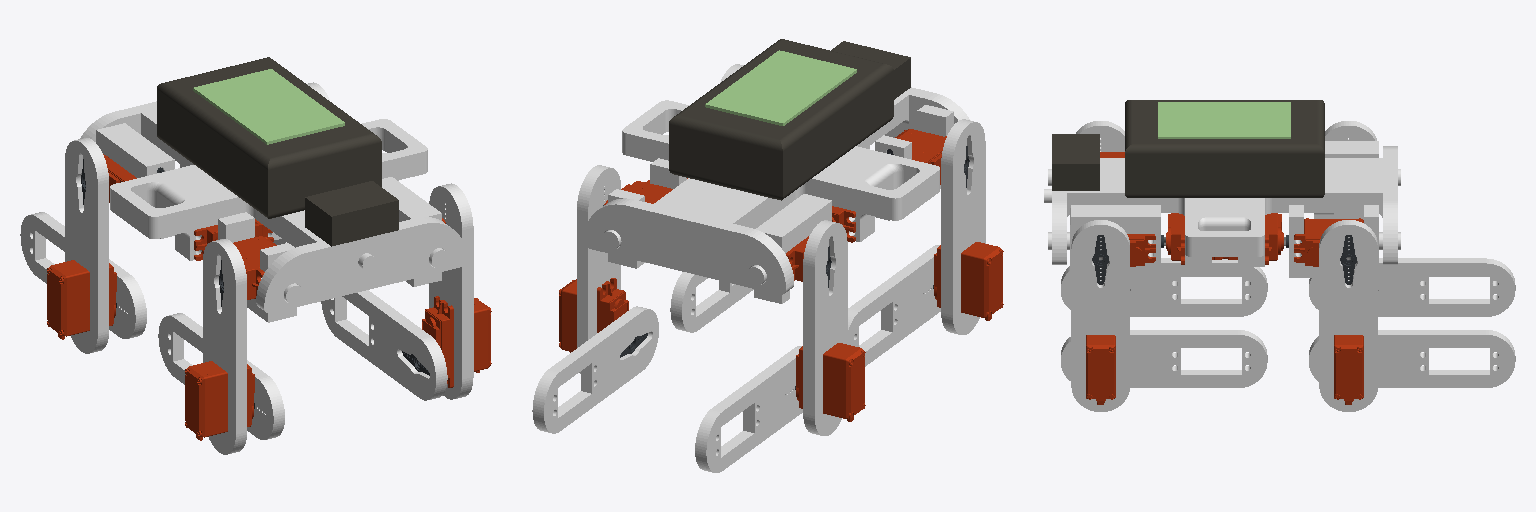
--- What the picture shows (computed from the rendered views, not written in the file) ---
The picture shows the robot from 3 angles, left to right: view 1: azimuth 30°, elevation 25°; view 2: azimuth 150°, elevation 25°; view 3: azimuth 270°, elevation 25°; orthographic projection.
Model servobot with 13 links and 12 joints (12 revolute), rooted at chassisasm, posed all joints at 0.
Visible links, largest first — view 1: chassisasm, part_1, part_1_2, part_1_4, 2000_0025_0002_4, 2000_0025_0002, 2000_0025_0002_2, hipasm, hipasm_2, hipasm_4; view 2: chassisasm, part_1_2, part_1, 2000_0025_0002_3, part_1_3, 2000_0025_0002_2, 2000_0025_0002, hipasm_2, hipasm, 2000_0025_0002_4, hipasm_3; view 3: chassisasm, part_1_4, part_1_3, 2000_0025_0002_4, 2000_0025_0002_3, 2000_0025_0002_2, 2000_0025_0002, hipasm_4, hipasm_3, part_1_2, hipasm_2, part_1.
Boxes of the visible links, x1,y1,x2,y2 form: chassisasm: (80, 57, 466, 313); part_1: (185, 239, 254, 454); part_1_2: (47, 138, 116, 353); part_1_4: (422, 183, 491, 399); 2000_0025_0002_4: (321, 290, 447, 400); 2000_0025_0002: (158, 313, 284, 439); 2000_0025_0002_2: (20, 212, 146, 338); hipasm: (218, 212, 302, 322); hipasm_2: (96, 123, 174, 202); hipasm_4: (382, 177, 448, 286); chassisasm: (584, 39, 970, 294); part_1_2: (796, 220, 865, 435); part_1: (934, 119, 1003, 334); 2000_0025_0002_3: (532, 306, 658, 433); part_1_3: (559, 165, 628, 373); 2000_0025_0002_2: (695, 346, 802, 472); 2000_0025_0002: (848, 245, 940, 366); hipasm_2: (747, 194, 831, 303); hipasm: (875, 105, 953, 188); 2000_0025_0002_4: (670, 272, 753, 332); hipasm_3: (602, 158, 686, 268); chassisasm: (1044, 100, 1397, 266); part_1_4: (1071, 220, 1129, 411); part_1_3: (1319, 220, 1377, 411); 2000_0025_0002_4: (1061, 330, 1267, 387); 2000_0025_0002_3: (1309, 330, 1515, 387); 2000_0025_0002_2: (1309, 258, 1515, 316); 2000_0025_0002: (1061, 258, 1267, 316); hipasm_4: (1048, 205, 1163, 277); hipasm_3: (1286, 205, 1400, 277); part_1_2: (1325, 121, 1376, 219); hipasm_2: (1325, 141, 1400, 185); part_1: (1076, 121, 1124, 151).
Bounding box of the posed robot: 0.2048 × 0.3186 × 0.1796 m (x, y, z).
52 mesh visuals loaded from 10 distinct referenced files (10 binary STL).

URDF robot description (servobot):
<?xml version="1.0" ?>
<!-- Generated using onshape-to-robot -->
<!-- Onshape document_id: 260e550735e8edce21bf9c86 / workspace_id: 1dd4a4758e6c79e3140f12ff -->
<robot name="servobot">
  <!-- Link chassisasm -->
  <link name="chassisasm">
    <inertial>
      <origin xyz="8.45344e-11 -0.0316171 0.0051848" rpy="0 0 0"/>
      <mass value="1.41284"/>
      <inertia ixx="0.00541257" ixy="3.20299e-11" ixz="2.71365e-11" iyy="0.00160159" iyz="0.000214607" izz="0.0059559"/>
    </inertial>
    <!-- Part part_1 -->
    <visual>
      <origin xyz="1.66923e-17 1.11775e-18 0.04" rpy="3.14159 8.4717e-17 -1.27298e-16"/>
      <geometry>
        <mesh filename="package://servobot_description/meshes/part_1.stl"/>
      </geometry>
      <material name="part_1_material">
        <color rgba="0.301961 0.290196 0.262745 1"/>
      </material>
    </visual>
    <collision>
      <origin xyz="1.66923e-17 1.11775e-18 0.04" rpy="3.14159 8.4717e-17 -1.27298e-16"/>
      <geometry>
        <mesh filename="package://servobot_description/meshes/part_1.stl"/>
      </geometry>
    </collision>
    <!-- Part part_1_2 -->
    <visual>
      <origin xyz="-9.86021e-18 -0.10075 0.02" rpy="3.14159 -4.11687e-16 1.5708"/>
      <geometry>
        <mesh filename="package://servobot_description/meshes/part_1__2.stl"/>
      </geometry>
      <material name="part_1_2_material">
        <color rgba="0.301961 0.290196 0.262745 1"/>
      </material>
    </visual>
    <collision>
      <origin xyz="-9.86021e-18 -0.10075 0.02" rpy="3.14159 -4.11687e-16 1.5708"/>
      <geometry>
        <mesh filename="package://servobot_description/meshes/part_1__2.stl"/>
      </geometry>
    </collision>
    <!-- Part part_1_3 -->
    <visual>
      <origin xyz="-9.25776e-19 6.35691e-19 0.042" rpy="3.14159 1.46005e-16 2.42684e-17"/>
      <geometry>
        <mesh filename="package://servobot_description/meshes/part_1__3.stl"/>
      </geometry>
      <material name="part_1_3_material">
        <color rgba="0.654902 0.823529 0.576471 1"/>
      </material>
    </visual>
    <collision>
      <origin xyz="-9.25776e-19 6.35691e-19 0.042" rpy="3.14159 1.46005e-16 2.42684e-17"/>
      <geometry>
        <mesh filename="package://servobot_description/meshes/part_1__3.stl"/>
      </geometry>
    </collision>
    <!-- Part 2000_0025_0002 -->
    <visual>
      <origin xyz="0.06087 0.0387 -0.025" rpy="-1.5708 -0 0"/>
      <geometry>
        <mesh filename="package://servobot_description/meshes/2000_0025_0002.stl"/>
      </geometry>
      <material name="2000_0025_0002_material">
        <color rgba="0.498039 0.498039 0.498039 1"/>
      </material>
    </visual>
    <collision>
      <origin xyz="0.06087 0.0387 -0.025" rpy="-1.5708 -0 0"/>
      <geometry>
        <mesh filename="package://servobot_description/meshes/2000_0025_0002.stl"/>
      </geometry>
    </collision>
    <!-- Part part_1_4 -->
    <visual>
      <origin xyz="-6.93889e-18 1.38778e-17 -0.015" rpy="-3.88578e-16 2.07294e-16 1.75835e-16"/>
      <geometry>
        <mesh filename="package://servobot_description/meshes/part_1__4.stl"/>
      </geometry>
      <material name="part_1_4_material">
        <color rgba="0.917647 0.917647 0.917647 1"/>
      </material>
    </visual>
    <collision>
      <origin xyz="-6.93889e-18 1.38778e-17 -0.015" rpy="-3.88578e-16 2.07294e-16 1.75835e-16"/>
      <geometry>
        <mesh filename="package://servobot_description/meshes/part_1__4.stl"/>
      </geometry>
    </collision>
    <!-- Part 2000_0025_0002_2 -->
    <visual>
      <origin xyz="0.04117 0.0382 -0.025" rpy="1.5708 -0 3.14159"/>
      <geometry>
        <mesh filename="package://servobot_description/meshes/2000_0025_0002__2.stl"/>
      </geometry>
      <material name="2000_0025_0002_2_material">
        <color rgba="0.729412 0.25098 0.105882 1"/>
      </material>
    </visual>
    <collision>
      <origin xyz="0.04117 0.0382 -0.025" rpy="1.5708 -0 3.14159"/>
      <geometry>
        <mesh filename="package://servobot_description/meshes/2000_0025_0002__2.stl"/>
      </geometry>
    </collision>
    <!-- Part 2000_0025_0002_3 -->
    <visual>
      <origin xyz="-0.04117 -0.0387 -0.025" rpy="1.5708 -0 0"/>
      <geometry>
        <mesh filename="package://servobot_description/meshes/2000_0025_0002.stl"/>
      </geometry>
      <material name="2000_0025_0002_3_material">
        <color rgba="0.498039 0.498039 0.498039 1"/>
      </material>
    </visual>
    <collision>
      <origin xyz="-0.04117 -0.0387 -0.025" rpy="1.5708 -0 0"/>
      <geometry>
        <mesh filename="package://servobot_description/meshes/2000_0025_0002.stl"/>
      </geometry>
    </collision>
    <!-- Part 2000_0025_0002_4 -->
    <visual>
      <origin xyz="-0.04117 0.0387 -0.025" rpy="-1.5708 -0 0"/>
      <geometry>
        <mesh filename="package://servobot_description/meshes/2000_0025_0002.stl"/>
      </geometry>
      <material name="2000_0025_0002_4_material">
        <color rgba="0.498039 0.498039 0.498039 1"/>
      </material>
    </visual>
    <collision>
      <origin xyz="-0.04117 0.0387 -0.025" rpy="-1.5708 -0 0"/>
      <geometry>
        <mesh filename="package://servobot_description/meshes/2000_0025_0002.stl"/>
      </geometry>
    </collision>
    <!-- Part 2000_0025_0002_5 -->
    <visual>
      <origin xyz="-0.04117 -0.0382 -0.025" rpy="1.5708 -0 0"/>
      <geometry>
        <mesh filename="package://servobot_description/meshes/2000_0025_0002__2.stl"/>
      </geometry>
      <material name="2000_0025_0002_5_material">
        <color rgba="0.729412 0.25098 0.105882 1"/>
      </material>
    </visual>
    <collision>
      <origin xyz="-0.04117 -0.0382 -0.025" rpy="1.5708 -0 0"/>
      <geometry>
        <mesh filename="package://servobot_description/meshes/2000_0025_0002__2.stl"/>
      </geometry>
    </collision>
    <!-- Part 2000_0025_0002_6 -->
    <visual>
      <origin xyz="-0.04117 0.0382 -0.025" rpy="-1.5708 -0 0"/>
      <geometry>
        <mesh filename="package://servobot_description/meshes/2000_0025_0002__2.stl"/>
      </geometry>
      <material name="2000_0025_0002_6_material">
        <color rgba="0.729412 0.25098 0.105882 1"/>
      </material>
    </visual>
    <collision>
      <origin xyz="-0.04117 0.0382 -0.025" rpy="-1.5708 -0 0"/>
      <geometry>
        <mesh filename="package://servobot_description/meshes/2000_0025_0002__2.stl"/>
      </geometry>
    </collision>
    <!-- Part 2000_0025_0002_7 -->
    <visual>
      <origin xyz="0.04117 -0.0382 -0.025" rpy="-1.5708 -0 3.14159"/>
      <geometry>
        <mesh filename="package://servobot_description/meshes/2000_0025_0002__2.stl"/>
      </geometry>
      <material name="2000_0025_0002_7_material">
        <color rgba="0.729412 0.25098 0.105882 1"/>
      </material>
    </visual>
    <collision>
      <origin xyz="0.04117 -0.0382 -0.025" rpy="-1.5708 -0 3.14159"/>
      <geometry>
        <mesh filename="package://servobot_description/meshes/2000_0025_0002__2.stl"/>
      </geometry>
    </collision>
    <!-- Part 2000_0025_0002_8 -->
    <visual>
      <origin xyz="0.06087 -0.0387 -0.025" rpy="1.5708 -0 0"/>
      <geometry>
        <mesh filename="package://servobot_description/meshes/2000_0025_0002.stl"/>
      </geometry>
      <material name="2000_0025_0002_8_material">
        <color rgba="0.498039 0.498039 0.498039 1"/>
      </material>
    </visual>
    <collision>
      <origin xyz="0.06087 -0.0387 -0.025" rpy="1.5708 -0 0"/>
      <geometry>
        <mesh filename="package://servobot_description/meshes/2000_0025_0002.stl"/>
      </geometry>
    </collision>
  </link>
  <!-- Link hipasm -->
  <link name="hipasm">
    <inertial>
      <origin xyz="-0.00193017 0.000954683 -0.0300833" rpy="0 0 0"/>
      <mass value="0.0717895"/>
      <inertia ixx="1.86244e-05" ixy="-1.32286e-07" ixz="-6.33322e-08" iyy="2.19537e-05" iyz="-3.99788e-08" izz="1.18822e-05"/>
    </inertial>
    <!-- Part 2000_0025_0002_9 -->
    <visual>
      <origin xyz="-0.0217 5.55112e-17 -0.0296" rpy="-6.1089e-26 -1.5708 0"/>
      <geometry>
        <mesh filename="package://servobot_description/meshes/2000_0025_0002.stl"/>
      </geometry>
      <material name="2000_0025_0002_9_material">
        <color rgba="0.498039 0.498039 0.498039 1"/>
      </material>
    </visual>
    <collision>
      <origin xyz="-0.0217 5.55112e-17 -0.0296" rpy="-6.1089e-26 -1.5708 0"/>
      <geometry>
        <mesh filename="package://servobot_description/meshes/2000_0025_0002.stl"/>
      </geometry>
    </collision>
    <!-- Part part_1_5 -->
    <visual>
      <origin xyz="0.01 -3.46945e-18 -0.0295" rpy="-3.14159 1.5708 0"/>
      <geometry>
        <mesh filename="package://servobot_description/meshes/part_1__5.stl"/>
      </geometry>
      <material name="part_1_5_material">
        <color rgba="0.917647 0.917647 0.917647 1"/>
      </material>
    </visual>
    <collision>
      <origin xyz="0.01 -3.46945e-18 -0.0295" rpy="-3.14159 1.5708 0"/>
      <geometry>
        <mesh filename="package://servobot_description/meshes/part_1__5.stl"/>
      </geometry>
    </collision>
    <!-- Part 2000_0025_0002_10 -->
    <visual>
      <origin xyz="-0.0212 6.245e-17 -0.0296" rpy="1.90215e-31 -1.5708 0"/>
      <geometry>
        <mesh filename="package://servobot_description/meshes/2000_0025_0002__2.stl"/>
      </geometry>
      <material name="2000_0025_0002_10_material">
        <color rgba="0.729412 0.25098 0.105882 1"/>
      </material>
    </visual>
    <collision>
      <origin xyz="-0.0212 6.245e-17 -0.0296" rpy="1.90215e-31 -1.5708 0"/>
      <geometry>
        <mesh filename="package://servobot_description/meshes/2000_0025_0002__2.stl"/>
      </geometry>
    </collision>
    <!-- Part mg995_gear2 -->
    <visual>
      <origin xyz="0 0 -0.002" rpy="0 -0 0"/>
      <geometry>
        <mesh filename="package://servobot_description/meshes/mg995_gear2.stl"/>
      </geometry>
      <material name="mg995_gear2_material">
        <color rgba="0.262745 0.282353 0.301961 1"/>
      </material>
    </visual>
    <collision>
      <origin xyz="0 0 -0.002" rpy="0 -0 0"/>
      <geometry>
        <mesh filename="package://servobot_description/meshes/mg995_gear2.stl"/>
      </geometry>
    </collision>
  </link>
  <!-- Link part_1 -->
  <link name="part_1">
    <inertial>
      <origin xyz="-3.50653e-11 0.0681951 -0.00408849" rpy="0 0 0"/>
      <mass value="0.0738028"/>
      <inertia ixx="5.15501e-05" ixy="3.92959e-13" ixz="4.85036e-13" iyy="1.13101e-05" iyz="1.56916e-06" izz="4.83161e-05"/>
    </inertial>
    <!-- Part part_1_6 -->
    <visual>
      <origin xyz="-2.77556e-17 0.0425934 0.003" rpy="-3.14159 4.93038e-32 5.55112e-17"/>
      <geometry>
        <mesh filename="package://servobot_description/meshes/part_1__6.stl"/>
      </geometry>
      <material name="part_1_6_material">
        <color rgba="0.917647 0.917647 0.917647 1"/>
      </material>
    </visual>
    <collision>
      <origin xyz="-2.77556e-17 0.0425934 0.003" rpy="-3.14159 4.93038e-32 5.55112e-17"/>
      <geometry>
        <mesh filename="package://servobot_description/meshes/part_1__6.stl"/>
      </geometry>
    </collision>
    <!-- Part mg995_gear2_2 -->
    <visual>
      <origin xyz="0 0 -0.002" rpy="0 -3.39112e-41 0"/>
      <geometry>
        <mesh filename="package://servobot_description/meshes/mg995_gear2.stl"/>
      </geometry>
      <material name="mg995_gear2_2_material">
        <color rgba="0.262745 0.282353 0.301961 1"/>
      </material>
    </visual>
    <collision>
      <origin xyz="0 0 -0.002" rpy="0 -3.39112e-41 0"/>
      <geometry>
        <mesh filename="package://servobot_description/meshes/mg995_gear2.stl"/>
      </geometry>
    </collision>
    <!-- Part 2000_0025_0002_11 -->
    <visual>
      <origin xyz="-2.77556e-17 0.0752634 0.0142" rpy="3.03099e-18 2.00394e-17 -1.5708"/>
      <geometry>
        <mesh filename="package://servobot_description/meshes/2000_0025_0002__2.stl"/>
      </geometry>
      <material name="2000_0025_0002_11_material">
        <color rgba="0.729412 0.25098 0.105882 1"/>
      </material>
    </visual>
    <collision>
      <origin xyz="-2.77556e-17 0.0752634 0.0142" rpy="3.03099e-18 2.00394e-17 -1.5708"/>
      <geometry>
        <mesh filename="package://servobot_description/meshes/2000_0025_0002__2.stl"/>
      </geometry>
    </collision>
  </link>
  <!-- Link 2000_0025_0002 -->
  <link name="2000_0025_0002">
    <inertial>
      <origin xyz="4.39567e-09 0.0438489 -0.00539012" rpy="0 0 0"/>
      <mass value="0.0170887"/>
      <inertia ixx="2.47754e-05" ixy="3.29288e-12" ixz="-4.9253e-13" iyy="2.28817e-06" iyz="8.2332e-08" izz="2.68729e-05"/>
    </inertial>
    <!-- Part mg995_gear2_3 -->
    <visual>
      <origin xyz="0 1.38778e-17 -0.0065" rpy="-4.37951e-19 -5.58991e-33 -3.14159"/>
      <geometry>
        <mesh filename="package://servobot_description/meshes/mg995_gear2.stl"/>
      </geometry>
      <material name="mg995_gear2_3_material">
        <color rgba="0.262745 0.282353 0.301961 1"/>
      </material>
    </visual>
    <collision>
      <origin xyz="0 1.38778e-17 -0.0065" rpy="-4.37951e-19 -5.58991e-33 -3.14159"/>
      <geometry>
        <mesh filename="package://servobot_description/meshes/mg995_gear2.stl"/>
      </geometry>
    </collision>
    <!-- Part 2000_0025_0002_12 -->
    <visual>
      <origin xyz="0.00985 1.38778e-17 0.0012" rpy="3.14159 1.42219e-33 -1.2326e-32"/>
      <geometry>
        <mesh filename="package://servobot_description/meshes/2000_0025_0002.stl"/>
      </geometry>
      <material name="2000_0025_0002_12_material">
        <color rgba="0.498039 0.498039 0.498039 1"/>
      </material>
    </visual>
    <collision>
      <origin xyz="0.00985 1.38778e-17 0.0012" rpy="3.14159 1.42219e-33 -1.2326e-32"/>
      <geometry>
        <mesh filename="package://servobot_description/meshes/2000_0025_0002.stl"/>
      </geometry>
    </collision>
    <!-- Part part_1_7 -->
    <visual>
      <origin xyz="1.7486e-15 0.0427644 -0.0015" rpy="-3.14159 7.01965e-33 1.38778e-17"/>
      <geometry>
        <mesh filename="package://servobot_description/meshes/part_1__7.stl"/>
      </geometry>
      <material name="part_1_7_material">
        <color rgba="0.917647 0.917647 0.917647 1"/>
      </material>
    </visual>
    <collision>
      <origin xyz="1.7486e-15 0.0427644 -0.0015" rpy="-3.14159 7.01965e-33 1.38778e-17"/>
      <geometry>
        <mesh filename="package://servobot_description/meshes/part_1__7.stl"/>
      </geometry>
    </collision>
  </link>
  <!-- Joint from part_1 to 2000_0025_0002 -->
  <joint name="bl_bot" type="revolute">
    <origin xyz="4.16334e-17 0.0851134 0.0159" rpy="3.14159 2.00394e-17 -1.5708"/>
    <parent link="part_1"/>
    <child link="2000_0025_0002"/>
    <axis xyz="0 0 1"/>
    <limit effort="10" velocity="10" lower="-3.14159" upper="3.14159"/>
  </joint>
  <!-- Joint from hipasm to part_1 -->
  <joint name="bl_top" type="revolute">
    <origin xyz="-0.0274 2.77556e-17 -0.03945" rpy="6.1089e-26 1.5708 0"/>
    <parent link="hipasm"/>
    <child link="part_1"/>
    <axis xyz="0 0 1"/>
    <limit effort="10" velocity="10" lower="-3.14159" upper="3.14159"/>
  </joint>
  <!-- Joint from chassisasm to hipasm -->
  <joint name="bl_hip" type="revolute">
    <origin xyz="-0.05102 -0.0444 -0.025" rpy="-1.5708 -0 0"/>
    <parent link="chassisasm"/>
    <child link="hipasm"/>
    <axis xyz="0 0 1"/>
    <limit effort="10" velocity="10" lower="-1" upper="1"/>
  </joint>
  <!-- Link hipasm_2 -->
  <link name="hipasm_2">
    <inertial>
      <origin xyz="-0.00193017 0.000954683 -0.0300833" rpy="0 0 0"/>
      <mass value="0.0717895"/>
      <inertia ixx="1.86244e-05" ixy="-1.32286e-07" ixz="-6.33322e-08" iyy="2.19537e-05" iyz="-3.99788e-08" izz="1.18822e-05"/>
    </inertial>
    <!-- Part 2000_0025_0002_13 -->
    <visual>
      <origin xyz="-0.0217 6.245e-17 -0.0296" rpy="-0 -1.5708 0"/>
      <geometry>
        <mesh filename="package://servobot_description/meshes/2000_0025_0002.stl"/>
      </geometry>
      <material name="2000_0025_0002_13_material">
        <color rgba="0.498039 0.498039 0.498039 1"/>
      </material>
    </visual>
    <collision>
      <origin xyz="-0.0217 6.245e-17 -0.0296" rpy="-0 -1.5708 0"/>
      <geometry>
        <mesh filename="package://servobot_description/meshes/2000_0025_0002.stl"/>
      </geometry>
    </collision>
    <!-- Part part_1_8 -->
    <visual>
      <origin xyz="0.01 -3.46945e-18 -0.0295" rpy="-3.14159 1.5708 0"/>
      <geometry>
        <mesh filename="package://servobot_description/meshes/part_1__5.stl"/>
      </geometry>
      <material name="part_1_8_material">
        <color rgba="0.917647 0.917647 0.917647 1"/>
      </material>
    </visual>
    <collision>
      <origin xyz="0.01 -3.46945e-18 -0.0295" rpy="-3.14159 1.5708 0"/>
      <geometry>
        <mesh filename="package://servobot_description/meshes/part_1__5.stl"/>
      </geometry>
    </collision>
    <!-- Part 2000_0025_0002_14 -->
    <visual>
      <origin xyz="-0.0212 7.28584e-17 -0.0296" rpy="-0 -1.5708 0"/>
      <geometry>
        <mesh filename="package://servobot_description/meshes/2000_0025_0002__2.stl"/>
      </geometry>
      <material name="2000_0025_0002_14_material">
        <color rgba="0.729412 0.25098 0.105882 1"/>
      </material>
    </visual>
    <collision>
      <origin xyz="-0.0212 7.28584e-17 -0.0296" rpy="-0 -1.5708 0"/>
      <geometry>
        <mesh filename="package://servobot_description/meshes/2000_0025_0002__2.stl"/>
      </geometry>
    </collision>
    <!-- Part mg995_gear2_4 -->
    <visual>
      <origin xyz="0 0 -0.002" rpy="0 -0 0"/>
      <geometry>
        <mesh filename="package://servobot_description/meshes/mg995_gear2.stl"/>
      </geometry>
      <material name="mg995_gear2_4_material">
        <color rgba="0.262745 0.282353 0.301961 1"/>
      </material>
    </visual>
    <collision>
      <origin xyz="0 0 -0.002" rpy="0 -0 0"/>
      <geometry>
        <mesh filename="package://servobot_description/meshes/mg995_gear2.stl"/>
      </geometry>
    </collision>
  </link>
  <!-- Link part_1_2 -->
  <link name="part_1_2">
    <inertial>
      <origin xyz="-3.50652e-11 0.0681951 -0.00408849" rpy="0 0 0"/>
      <mass value="0.0738028"/>
      <inertia ixx="5.15501e-05" ixy="3.92959e-13" ixz="4.85036e-13" iyy="1.13101e-05" iyz="1.56916e-06" izz="4.83161e-05"/>
    </inertial>
    <!-- Part mg995_gear2_5 -->
    <visual>
      <origin xyz="-1.38778e-17 0 -0.002" rpy="0 -0 2.34193e-31"/>
      <geometry>
        <mesh filename="package://servobot_description/meshes/mg995_gear2.stl"/>
      </geometry>
      <material name="mg995_gear2_5_material">
        <color rgba="0.262745 0.282353 0.301961 1"/>
      </material>
    </visual>
    <collision>
      <origin xyz="-1.38778e-17 0 -0.002" rpy="0 -0 2.34193e-31"/>
      <geometry>
        <mesh filename="package://servobot_description/meshes/mg995_gear2.stl"/>
      </geometry>
    </collision>
    <!-- Part 2000_0025_0002_15 -->
    <visual>
      <origin xyz="4.16334e-17 0.0752634 0.0142" rpy="0 -0 -1.5708"/>
      <geometry>
        <mesh filename="package://servobot_description/meshes/2000_0025_0002__2.stl"/>
      </geometry>
      <material name="2000_0025_0002_15_material">
        <color rgba="0.729412 0.25098 0.105882 1"/>
      </material>
    </visual>
    <collision>
      <origin xyz="4.16334e-17 0.0752634 0.0142" rpy="0 -0 -1.5708"/>
      <geometry>
        <mesh filename="package://servobot_description/meshes/2000_0025_0002__2.stl"/>
      </geometry>
    </collision>
    <!-- Part part_1_9 -->
    <visual>
      <origin xyz="2.77556e-17 0.0425934 0.003" rpy="3.14159 -0 3.05311e-16"/>
      <geometry>
        <mesh filename="package://servobot_description/meshes/part_1__6.stl"/>
      </geometry>
      <material name="part_1_9_material">
        <color rgba="0.917647 0.917647 0.917647 1"/>
      </material>
    </visual>
    <collision>
      <origin xyz="2.77556e-17 0.0425934 0.003" rpy="3.14159 -0 3.05311e-16"/>
      <geometry>
        <mesh filename="package://servobot_description/meshes/part_1__6.stl"/>
      </geometry>
    </collision>
  </link>
  <!-- Link 2000_0025_0002_2 -->
  <link name="2000_0025_0002_2">
    <inertial>
      <origin xyz="4.39567e-09 0.0438489 -0.00539012" rpy="0 0 0"/>
      <mass value="0.0170887"/>
      <inertia ixx="2.47754e-05" ixy="3.29288e-12" ixz="-4.9253e-13" iyy="2.28817e-06" iyz="8.2332e-08" izz="2.68729e-05"/>
    </inertial>
    <!-- Part part_1_10 -->
    <visual>
      <origin xyz="-4.16334e-17 0.0427644 -0.0015" rpy="3.14159 -0 5.13478e-16"/>
      <geometry>
        <mesh filename="package://servobot_description/meshes/part_1__7.stl"/>
      </geometry>
      <material name="part_1_10_material">
        <color rgba="0.917647 0.917647 0.917647 1"/>
      </material>
    </visual>
    <collision>
      <origin xyz="-4.16334e-17 0.0427644 -0.0015" rpy="3.14159 -0 5.13478e-16"/>
      <geometry>
        <mesh filename="package://servobot_description/meshes/part_1__7.stl"/>
      </geometry>
    </collision>
    <!-- Part mg995_gear2_6 -->
    <visual>
      <origin xyz="-1.38778e-17 0 -0.0065" rpy="0 -0 -3.14159"/>
      <geometry>
        <mesh filename="package://servobot_description/meshes/mg995_gear2.stl"/>
      </geometry>
      <material name="mg995_gear2_6_material">
        <color rgba="0.262745 0.282353 0.301961 1"/>
      </material>
    </visual>
    <collision>
      <origin xyz="-1.38778e-17 0 -0.0065" rpy="0 -0 -3.14159"/>
      <geometry>
        <mesh filename="package://servobot_description/meshes/mg995_gear2.stl"/>
      </geometry>
    </collision>
    <!-- Part 2000_0025_0002_16 -->
    <visual>
      <origin xyz="0.00985 1.38778e-17 0.0012" rpy="3.14159 -0 -3.54371e-32"/>
      <geometry>
        <mesh filename="package://servobot_description/meshes/2000_0025_0002.stl"/>
      </geometry>
      <material name="2000_0025_0002_16_material">
        <color rgba="0.498039 0.498039 0.498039 1"/>
      </material>
    </visual>
    <collision>
      <origin xyz="0.00985 1.38778e-17 0.0012" rpy="3.14159 -0 -3.54371e-32"/>
      <geometry>
        <mesh filename="package://servobot_description/meshes/2000_0025_0002.stl"/>
      </geometry>
    </collision>
  </link>
  <!-- Joint from part_1_2 to 2000_0025_0002_2 -->
  <joint name="fl_bot" type="revolute">
    <origin xyz="4.16334e-17 0.0851134 0.0159" rpy="3.14159 -0 -1.5708"/>
    <parent link="part_1_2"/>
    <child link="2000_0025_0002_2"/>
    <axis xyz="0 0 1"/>
    <limit effort="10" velocity="10" lower="-3.14159" upper="3.14159"/>
  </joint>
  <!-- Joint from hipasm_2 to part_1_2 -->
  <joint name="fl_top" type="revolute">
    <origin xyz="-0.0274 6.245e-17 -0.03945" rpy="-3.14159 -1.5708 0"/>
    <parent link="hipasm_2"/>
    <child link="part_1_2"/>
    <axis xyz="0 0 1"/>
    <limit effort="10" velocity="10" lower="-3.14159" upper="3.14159"/>
  </joint>
  <!-- Joint from chassisasm to hipasm_2 -->
  <joint name="fl_hip" type="revolute">
    <origin xyz="-0.05102 0.0444 -0.025" rpy="1.5708 -0 0"/>
    <parent link="chassisasm"/>
    <child link="hipasm_2"/>
    <axis xyz="0 0 1"/>
    <limit effort="10" velocity="10" lower="-1" upper="1"/>
  </joint>
  <!-- Link hipasm_3 -->
  <link name="hipasm_3">
    <inertial>
      <origin xyz="-0.00193017 0.000954683 -0.0300833" rpy="0 0 0"/>
      <mass value="0.0717895"/>
      <inertia ixx="1.86244e-05" ixy="-1.32286e-07" ixz="-6.33322e-08" iyy="2.19537e-05" iyz="-3.99788e-08" izz="1.18822e-05"/>
    </inertial>
    <!-- Part 2000_0025_0002_17 -->
    <visual>
      <origin xyz="-0.0217 4.16334e-17 -0.0296" rpy="-0 -1.5708 0"/>
      <geometry>
        <mesh filename="package://servobot_description/meshes/2000_0025_0002.stl"/>
      </geometry>
      <material name="2000_0025_0002_17_material">
        <color rgba="0.498039 0.498039 0.498039 1"/>
      </material>
    </visual>
    <collision>
      <origin xyz="-0.0217 4.16334e-17 -0.0296" rpy="-0 -1.5708 0"/>
      <geometry>
        <mesh filename="package://servobot_description/meshes/2000_0025_0002.stl"/>
      </geometry>
    </collision>
    <!-- Part part_1_11 -->
    <visual>
      <origin xyz="0.01 -3.46945e-18 -0.0295" rpy="-3.14159 1.5708 0"/>
      <geometry>
        <mesh filename="package://servobot_description/meshes/part_1__5.stl"/>
      </geometry>
      <material name="part_1_11_material">
        <color rgba="0.917647 0.917647 0.917647 1"/>
      </material>
    </visual>
    <collision>
      <origin xyz="0.01 -3.46945e-18 -0.0295" rpy="-3.14159 1.5708 0"/>
      <geometry>
        <mesh filename="package://servobot_description/meshes/part_1__5.stl"/>
      </geometry>
    </collision>
    <!-- Part 2000_0025_0002_18 -->
    <visual>
      <origin xyz="-0.0212 5.20417e-17 -0.0296" rpy="-0 -1.5708 0"/>
      <geometry>
        <mesh filename="package://servobot_description/meshes/2000_0025_0002__2.stl"/>
      </geometry>
      <material name="2000_0025_0002_18_material">
        <color rgba="0.729412 0.25098 0.105882 1"/>
      </material>
    </visual>
    <collision>
      <origin xyz="-0.0212 5.20417e-17 -0.0296" rpy="-0 -1.5708 0"/>
      <geometry>
        <mesh filename="package://servobot_description/meshes/2000_0025_0002__2.stl"/>
      </geometry>
    </collision>
    <!-- Part mg995_gear2_7 -->
    <visual>
      <origin xyz="0 0 -0.002" rpy="0 -0 0"/>
      <geometry>
        <mesh filename="package://servobot_description/meshes/mg995_gear2.stl"/>
      </geometry>
      <material name="mg995_gear2_7_material">
        <color rgba="0.262745 0.282353 0.301961 1"/>
      </material>
    </visual>
    <collision>
      <origin xyz="0 0 -0.002" rpy="0 -0 0"/>
      <geometry>
        <mesh filename="package://servobot_description/meshes/mg995_gear2.stl"/>
      </geometry>
    </collision>
  </link>
  <!-- Link part_1_3 -->
  <link name="part_1_3">
    <inertial>
      <origin xyz="-3.50655e-11 0.0681951 -0.00408849" rpy="0 0 0"/>
      <mass value="0.0738028"/>
      <inertia ixx="5.15501e-05" ixy="3.92959e-13" ixz="4.85036e-13" iyy="1.13101e-05" iyz="1.56916e-06" izz="4.83161e-05"/>
    </inertial>
    <!-- Part 2000_0025_0002_19 -->
    <visual>
      <origin xyz="-1.80411e-16 0.0752634 0.0142" rpy="-1.69366e-15 4.58953e-16 -1.5708"/>
      <geometry>
        <mesh filename="package://servobot_description/meshes/2000_0025_0002__2.stl"/>
      </geometry>
      <material name="2000_0025_0002_19_material">
        <color rgba="0.729412 0.25098 0.105882 1"/>
      </material>
    </visual>
    <collision>
      <origin xyz="-1.80411e-16 0.0752634 0.0142" rpy="-1.69366e-15 4.58953e-16 -1.5708"/>
      <geometry>
        <mesh filename="package://servobot_description/meshes/2000_0025_0002__2.stl"/>
      </geometry>
    </collision>
    <!-- Part part_1_12 -->
    <visual>
      <origin xyz="-8.32667e-17 0.0425934 0.003" rpy="-3.14159 8.50122e-16 -1.30122e-15"/>
      <geometry>
        <mesh filename="package://servobot_description/meshes/part_1__6.stl"/>
      </geometry>
      <material name="part_1_12_material">
        <color rgba="0.917647 0.917647 0.917647 1"/>
      </material>
    </visual>
    <collision>
      <origin xyz="-8.32667e-17 0.0425934 0.003" rpy="-3.14159 8.50122e-16 -1.30122e-15"/>
      <geometry>
        <mesh filename="package://servobot_description/meshes/part_1__6.stl"/>
      </geometry>
    </collision>
    <!-- Part mg995_gear2_8 -->
    <visual>
      <origin xyz="0 0 -0.002" rpy="0 -0 -2.46519e-32"/>
      <geometry>
        <mesh filename="package://servobot_description/meshes/mg995_gear2.stl"/>
      </geometry>
      <material name="mg995_gear2_8_material">
        <color rgba="0.262745 0.282353 0.301961 1"/>
      </material>
    </visual>
    <collision>
      <origin xyz="0 0 -0.002" rpy="0 -0 -2.46519e-32"/>
      <geometry>
        <mesh filename="package://servobot_description/meshes/mg995_gear2.stl"/>
      </geometry>
    </collision>
  </link>
  <!-- Link 2000_0025_0002_3 -->
  <link name="2000_0025_0002_3">
    <inertial>
      <origin xyz="4.39567e-09 0.0438489 -0.00539012" rpy="0 0 0"/>
      <mass value="0.0170887"/>
      <inertia ixx="2.47754e-05" ixy="3.29288e-12" ixz="-4.9253e-13" iyy="2.28817e-06" iyz="8.2332e-08" izz="2.68729e-05"/>
    </inertial>
    <!-- Part part_1_13 -->
    <visual>
      <origin xyz="-3.19189e-16 0.0427644 -0.0015" rpy="3.14159 7.01011e-16 -5.66994e-31"/>
      <geometry>
        <mesh filename="package://servobot_description/meshes/part_1__7.stl"/>
      </geometry>
      <material name="part_1_13_material">
        <color rgba="0.917647 0.917647 0.917647 1"/>
      </material>
    </visual>
    <collision>
      <origin xyz="-3.19189e-16 0.0427644 -0.0015" rpy="3.14159 7.01011e-16 -5.66994e-31"/>
      <geometry>
        <mesh filename="package://servobot_description/meshes/part_1__7.stl"/>
      </geometry>
    </collision>
    <!-- Part 2000_0025_0002_20 -->
    <visual>
      <origin xyz="0.00985 0 0.0012" rpy="-3.14159 1.16839e-31 -8.25839e-31"/>
      <geometry>
        <mesh filename="package://servobot_description/meshes/2000_0025_0002.stl"/>
      </geometry>
      <material name="2000_0025_0002_20_material">
        <color rgba="0.498039 0.498039 0.498039 1"/>
      </material>
    </visual>
    <collision>
      <origin xyz="0.00985 0 0.0012" rpy="-3.14159 1.16839e-31 -8.25839e-31"/>
      <geometry>
        <mesh filename="package://servobot_description/meshes/2000_0025_0002.stl"/>
      </geometry>
    </collision>
    <!-- Part mg995_gear2_9 -->
    <visual>
      <origin xyz="0 0 -0.0065" rpy="5.85595e-16 -4.06475e-16 3.14159"/>
      <geometry>
        <mesh filename="package://servobot_description/meshes/mg995_gear2.stl"/>
      </geometry>
      <material name="mg995_gear2_9_material">
        <color rgba="0.262745 0.282353 0.301961 1"/>
      </material>
    </visual>
    <collision>
      <origin xyz="0 0 -0.0065" rpy="5.85595e-16 -4.06475e-16 3.14159"/>
      <geometry>
        <mesh filename="package://servobot_description/meshes/mg995_gear2.stl"/>
      </geometry>
    </collision>
  </link>
  <!-- Joint from part_1_3 to 2000_0025_0002_3 -->
  <joint name="fr_bot" type="revolute">
    <origin xyz="-2.63678e-16 0.0851134 0.0159" rpy="-3.14159 6.20402e-16 1.5708"/>
    <parent link="part_1_3"/>
    <child link="2000_0025_0002_3"/>
    <axis xyz="0 0 1"/>
    <limit effort="10" velocity="10" lower="-3.14159" upper="3.14159"/>
  </joint>
  <!-- Joint from hipasm_3 to part_1_3 -->
  <joint name="fr_top" type="revolute">
    <origin xyz="-0.0274 4.85723e-17 -0.03945" rpy="-0 1.5708 0"/>
    <parent link="hipasm_3"/>
    <child link="part_1_3"/>
    <axis xyz="0 0 1"/>
    <limit effort="10" velocity="10" lower="-3.14159" upper="3.14159"/>
  </joint>
  <!-- Joint from chassisasm to hipasm_3 -->
  <joint name="fr_hip" type="revolute">
    <origin xyz="0.05102 0.0444 -0.025" rpy="-1.5708 -0 3.14159"/>
    <parent link="chassisasm"/>
    <child link="hipasm_3"/>
    <axis xyz="0 0 1"/>
    <limit effort="10" velocity="10" lower="-1" upper="1"/>
  </joint>
  <!-- Link hipasm_4 -->
  <link name="hipasm_4">
    <inertial>
      <origin xyz="-0.00193017 0.000954683 -0.0300833" rpy="0 0 0"/>
      <mass value="0.0717895"/>
      <inertia ixx="1.86244e-05" ixy="-1.32286e-07" ixz="-6.33322e-08" iyy="2.19537e-05" iyz="-3.99788e-08" izz="1.18822e-05"/>
    </inertial>
    <!-- Part 2000_0025_0002_21 -->
    <visual>
      <origin xyz="-0.0217 5.55112e-17 -0.0296" rpy="-5.77604e-16 -1.5708 0"/>
      <geometry>
        <mesh filename="package://servobot_description/meshes/2000_0025_0002.stl"/>
      </geometry>
      <material name="2000_0025_0002_21_material">
        <color rgba="0.498039 0.498039 0.498039 1"/>
      </material>
    </visual>
    <collision>
      <origin xyz="-0.0217 5.55112e-17 -0.0296" rpy="-5.77604e-16 -1.5708 0"/>
      <geometry>
        <mesh filename="package://servobot_description/meshes/2000_0025_0002.stl"/>
      </geometry>
    </collision>
    <!-- Part part_1_14 -->
    <visual>
      <origin xyz="0.01 -3.46945e-18 -0.0295" rpy="-3.14159 1.5708 0"/>
      <geometry>
        <mesh filename="package://servobot_description/meshes/part_1__5.stl"/>
      </geometry>
      <material name="part_1_14_material">
        <color rgba="0.917647 0.917647 0.917647 1"/>
      </material>
    </visual>
    <collision>
      <origin xyz="0.01 -3.46945e-18 -0.0295" rpy="-3.14159 1.5708 0"/>
      <geometry>
        <mesh filename="package://servobot_description/meshes/part_1__5.stl"/>
      </geometry>
    </collision>
    <!-- Part 2000_0025_0002_22 -->
    <visual>
      <origin xyz="-0.0212 6.245e-17 -0.0296" rpy="-2.85027e-16 -1.5708 0"/>
      <geometry>
        <mesh filename="package://servobot_description/meshes/2000_0025_0002__2.stl"/>
      </geometry>
      <material name="2000_0025_0002_22_material">
        <color rgba="0.729412 0.25098 0.105882 1"/>
      </material>
    </visual>
    <collision>
      <origin xyz="-0.0212 6.245e-17 -0.0296" rpy="-2.85027e-16 -1.5708 0"/>
      <geometry>
        <mesh filename="package://servobot_description/meshes/2000_0025_0002__2.stl"/>
      </geometry>
    </collision>
    <!-- Part mg995_gear2_10 -->
    <visual>
      <origin xyz="0 0 -0.002" rpy="0 -0 0"/>
      <geometry>
        <mesh filename="package://servobot_description/meshes/mg995_gear2.stl"/>
      </geometry>
      <material name="mg995_gear2_10_material">
        <color rgba="0.262745 0.282353 0.301961 1"/>
      </material>
    </visual>
    <collision>
      <origin xyz="0 0 -0.002" rpy="0 -0 0"/>
      <geometry>
        <mesh filename="package://servobot_description/meshes/mg995_gear2.stl"/>
      </geometry>
    </collision>
  </link>
  <!-- Link part_1_4 -->
  <link name="part_1_4">
    <inertial>
      <origin xyz="-3.50653e-11 0.0681951 -0.00408849" rpy="0 0 0"/>
      <mass value="0.0738028"/>
      <inertia ixx="5.15501e-05" ixy="3.92959e-13" ixz="4.85036e-13" iyy="1.13101e-05" iyz="1.56916e-06" izz="4.83161e-05"/>
    </inertial>
    <!-- Part mg995_gear2_11 -->
    <visual>
      <origin xyz="0 0 -0.002" rpy="0 2.57699e-33 0"/>
      <geometry>
        <mesh filename="package://servobot_description/meshes/mg995_gear2.stl"/>
      </geometry>
      <material name="mg995_gear2_11_material">
        <color rgba="0.262745 0.282353 0.301961 1"/>
      </material>
    </visual>
    <collision>
      <origin xyz="0 0 -0.002" rpy="0 2.57699e-33 0"/>
      <geometry>
        <mesh filename="package://servobot_description/meshes/mg995_gear2.stl"/>
      </geometry>
    </collision>
    <!-- Part 2000_0025_0002_23 -->
    <visual>
      <origin xyz="-1.38778e-17 0.0752634 0.0142" rpy="1.10168e-17 -3.2762e-18 -1.5708"/>
      <geometry>
        <mesh filename="package://servobot_description/meshes/2000_0025_0002__2.stl"/>
      </geometry>
      <material name="2000_0025_0002_23_material">
        <color rgba="0.729412 0.25098 0.105882 1"/>
      </material>
    </visual>
    <collision>
      <origin xyz="-1.38778e-17 0.0752634 0.0142" rpy="1.10168e-17 -3.2762e-18 -1.5708"/>
      <geometry>
        <mesh filename="package://servobot_description/meshes/2000_0025_0002__2.stl"/>
      </geometry>
    </collision>
    <!-- Part part_1_15 -->
    <visual>
      <origin xyz="0 0.0425934 0.003" rpy="-3.14159 1.08596e-31 -5.55112e-17"/>
      <geometry>
        <mesh filename="package://servobot_description/meshes/part_1__6.stl"/>
      </geometry>
      <material name="part_1_15_material">
        <color rgba="0.917647 0.917647 0.917647 1"/>
      </material>
    </visual>
    <collision>
      <origin xyz="0 0.0425934 0.003" rpy="-3.14159 1.08596e-31 -5.55112e-17"/>
      <geometry>
        <mesh filename="package://servobot_description/meshes/part_1__6.stl"/>
      </geometry>
    </collision>
  </link>
  <!-- Link 2000_0025_0002_4 -->
  <link name="2000_0025_0002_4">
    <inertial>
      <origin xyz="4.39567e-09 0.0438489 -0.00539012" rpy="0 0 0"/>
      <mass value="0.0170887"/>
      <inertia ixx="2.47754e-05" ixy="3.29288e-12" ixz="-4.9253e-13" iyy="2.28817e-06" iyz="8.2332e-08" izz="2.68729e-05"/>
    </inertial>
    <!-- Part 2000_0025_0002_24 -->
    <visual>
      <origin xyz="0.00985 1.38778e-17 0.0012" rpy="3.14159 -0 0"/>
      <geometry>
        <mesh filename="package://servobot_description/meshes/2000_0025_0002.stl"/>
      </geometry>
      <material name="2000_0025_0002_24_material">
        <color rgba="0.498039 0.498039 0.498039 1"/>
      </material>
    </visual>
    <collision>
      <origin xyz="0.00985 1.38778e-17 0.0012" rpy="3.14159 -0 0"/>
      <geometry>
        <mesh filename="package://servobot_description/meshes/2000_0025_0002.stl"/>
      </geometry>
    </collision>
    <!-- Part mg995_gear2_12 -->
    <visual>
      <origin xyz="1.38778e-17 4.16334e-17 -0.0065" rpy="-7.26131e-17 -9.0063e-17 -3.14159"/>
      <geometry>
        <mesh filename="package://servobot_description/meshes/mg995_gear2.stl"/>
      </geometry>
      <material name="mg995_gear2_12_material">
        <color rgba="0.262745 0.282353 0.301961 1"/>
      </material>
    </visual>
    <collision>
      <origin xyz="1.38778e-17 4.16334e-17 -0.0065" rpy="-7.26131e-17 -9.0063e-17 -3.14159"/>
      <geometry>
        <mesh filename="package://servobot_description/meshes/mg995_gear2.stl"/>
      </geometry>
    </collision>
    <!-- Part part_1_16 -->
    <visual>
      <origin xyz="-2.77556e-17 0.0427644 -0.0015" rpy="-3.14159 -4.88595e-18 4.85723e-16"/>
      <geometry>
        <mesh filename="package://servobot_description/meshes/part_1__7.stl"/>
      </geometry>
      <material name="part_1_16_material">
        <color rgba="0.917647 0.917647 0.917647 1"/>
      </material>
    </visual>
    <collision>
      <origin xyz="-2.77556e-17 0.0427644 -0.0015" rpy="-3.14159 -4.88595e-18 4.85723e-16"/>
      <geometry>
        <mesh filename="package://servobot_description/meshes/part_1__7.stl"/>
      </geometry>
    </collision>
  </link>
  <!-- Joint from part_1_4 to 2000_0025_0002_4 -->
  <joint name="br_bot" type="revolute">
    <origin xyz="-2.77556e-17 0.0851134 0.0159" rpy="-3.14159 -1.22783e-16 1.5708"/>
    <parent link="part_1_4"/>
    <child link="2000_0025_0002_4"/>
    <axis xyz="0 0 1"/>
    <limit effort="10" velocity="10" lower="-3.14159" upper="3.14159"/>
  </joint>
  <!-- Joint from hipasm_4 to part_1_4 -->
  <joint name="br_top" type="revolute">
    <origin xyz="-0.0274 6.245e-17 -0.03945" rpy="3.14159 -1.5708 0"/>
    <parent link="hipasm_4"/>
    <child link="part_1_4"/>
    <axis xyz="0 0 1"/>
    <limit effort="10" velocity="10" lower="-3.14159" upper="3.14159"/>
  </joint>
  <!-- Joint from chassisasm to hipasm_4 -->
  <joint name="br_hip" type="revolute">
    <origin xyz="0.05102 -0.0444 -0.025" rpy="1.5708 -0 3.14159"/>
    <parent link="chassisasm"/>
    <child link="hipasm_4"/>
    <axis xyz="0 0 1"/>
    <limit effort="10" velocity="10" lower="-1" upper="1"/>
  </joint>
</robot>
